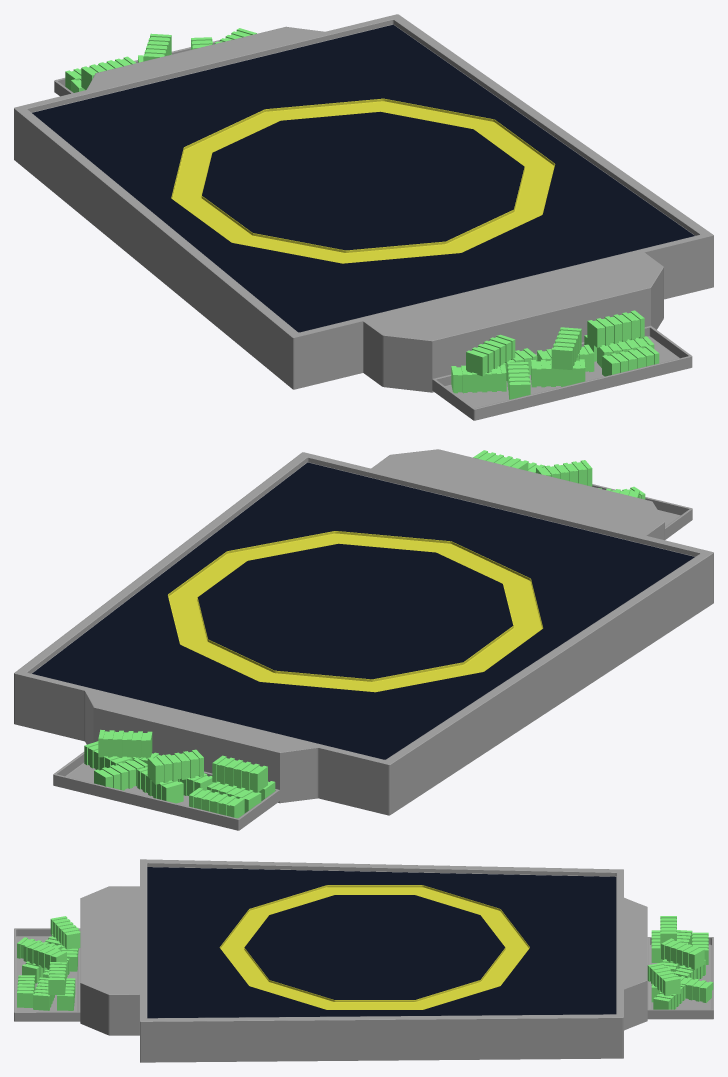
The model's file is Platform.fbx.
3 renders of one model, top to bottom at view 1: azimuth 30°, elevation 25°; view 2: azimuth 150°, elevation 25°; view 3: azimuth 270°, elevation 25°, orthographic. The views are drawn at different scales.
Visible parts, largest first — view 1: Cube, Cube.002, Cube.001; view 2: Cube, Cube.001, Cube.002; view 3: Cube, Cube.001, Cube.002.
Boxes of the visible parts, <box> form: Cube: <box>14,14,713,420</box>; Cube.002: <box>451,310,659,399</box>; Cube.001: <box>65,28,256,92</box>; Cube: <box>14,449,713,830</box>; Cube.001: <box>84,729,275,818</box>; Cube.002: <box>473,450,645,499</box>; Cube: <box>14,859,713,1062</box>; Cube.001: <box>647,916,713,1009</box>; Cube.002: <box>17,916,80,1010</box>.
Size of the model in its own units: 219 by 25.71 by 398.
